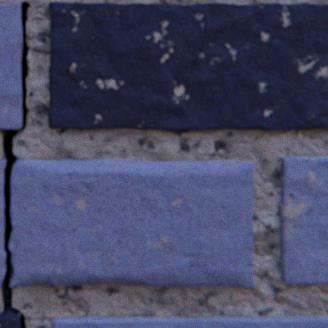brick: (48, 2, 327, 129), (279, 155, 327, 282), (52, 314, 327, 327), (0, 3, 22, 128), (0, 313, 19, 327)
broken_brick: (9, 159, 253, 286), (0, 160, 6, 285)
crack: (0, 0, 31, 327)
